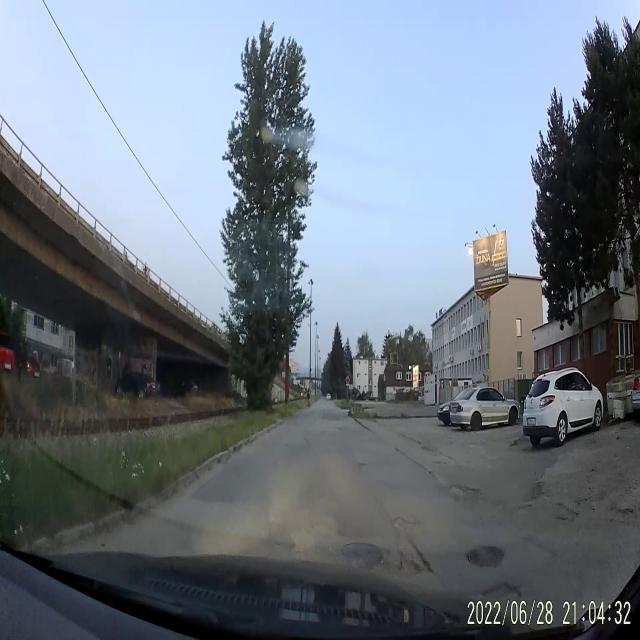Manhole: (341, 537, 384, 567), (466, 540, 504, 572)
Pothole: (388, 548, 438, 577), (390, 508, 418, 534)
